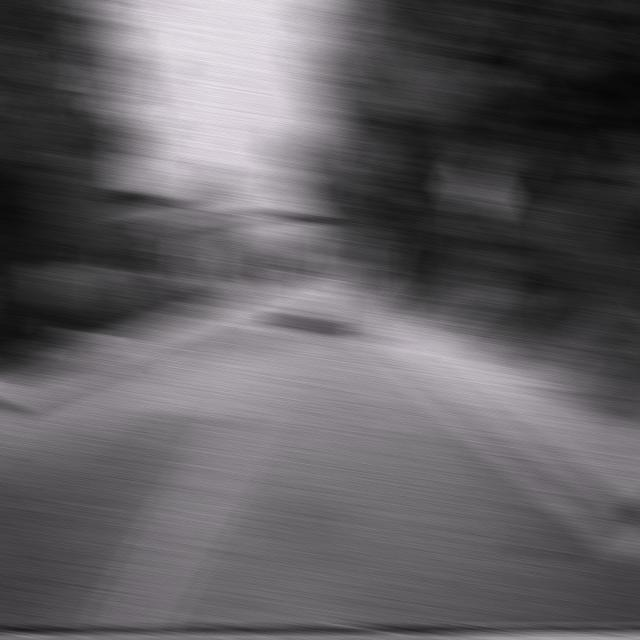pedestrianCrossing: (450, 158, 502, 222)
